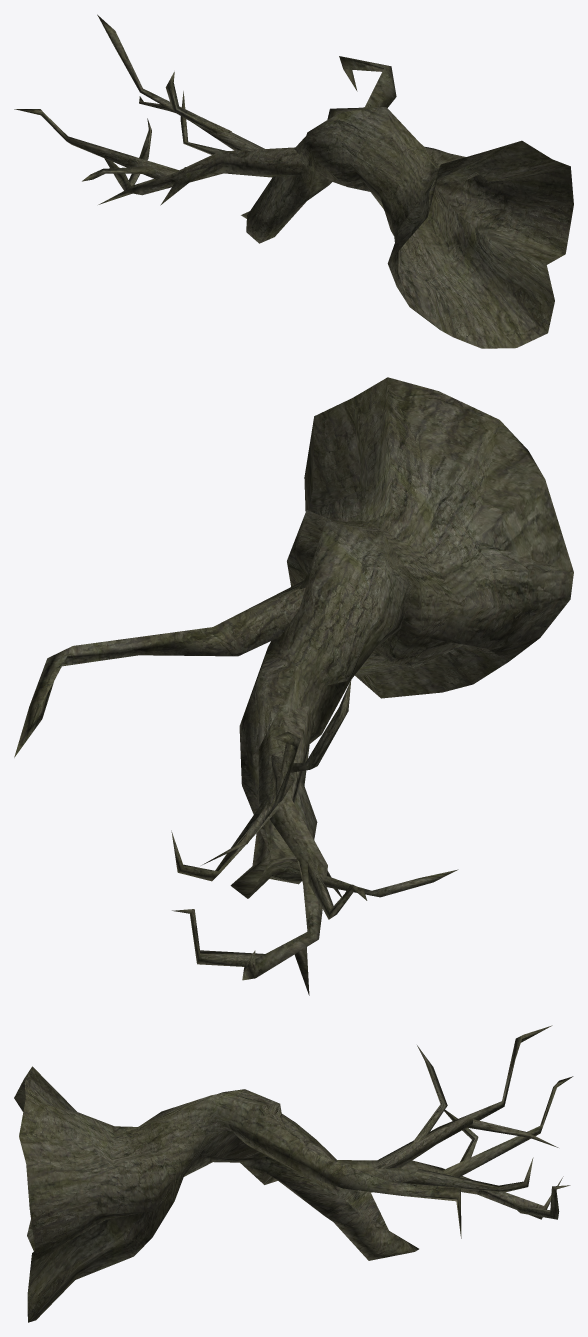
File: TI_Old_Tree_05_LOD_02.fbx
3 views of the same model, one above another, from view 1: azimuth 30°, elevation 25°; view 2: azimuth 150°, elevation 25°; view 3: azimuth 270°, elevation 25° (orthographic). The views are drawn at different scales.
Parts seen in each view (by area): view 1: TI_Old_Tree_05_LOD_02; view 2: TI_Old_Tree_05_LOD_02; view 3: TI_Old_Tree_05_LOD_02.
Boxes of the visible parts, x1,y1,x2,y2 form: TI_Old_Tree_05_LOD_02: [14, 14, 573, 348]; TI_Old_Tree_05_LOD_02: [14, 377, 573, 995]; TI_Old_Tree_05_LOD_02: [14, 1025, 573, 1322].
Bounding box in the file's own units: 6.57 × 4.4 × 10.07.
